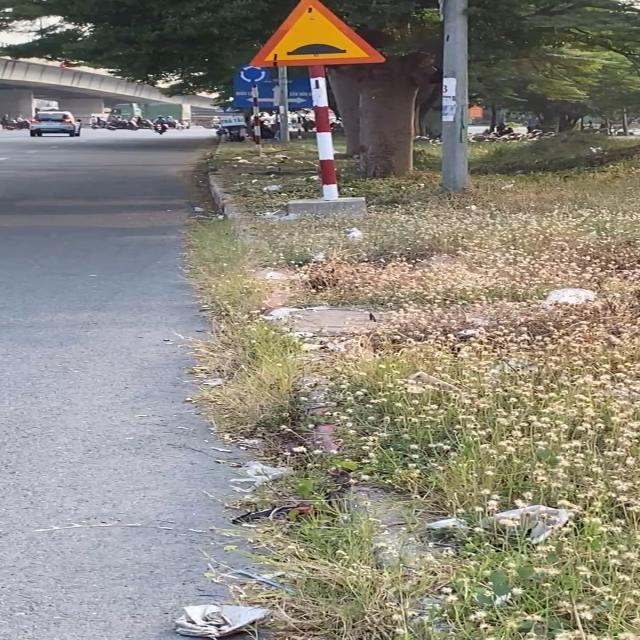221-duong-go-ghe: (248, 1, 386, 68)
303-noi-giao-nhau-chay-theo-vong-xuyen: (236, 63, 269, 84)
